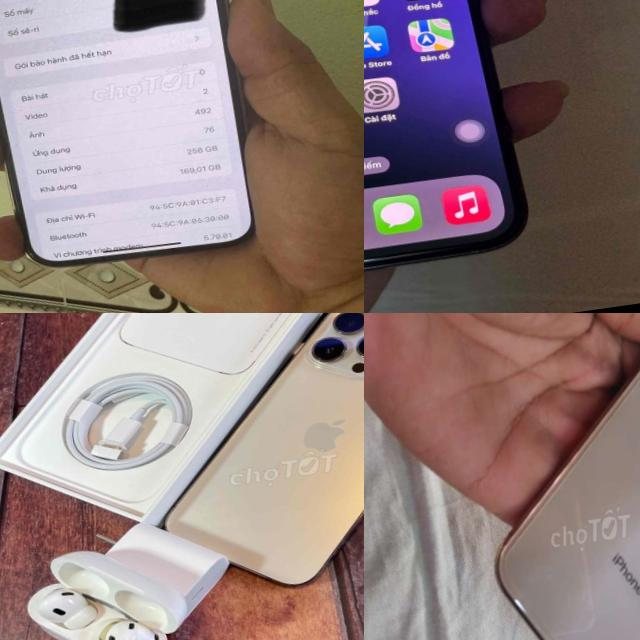screen_defect: (92, 0, 229, 54)
